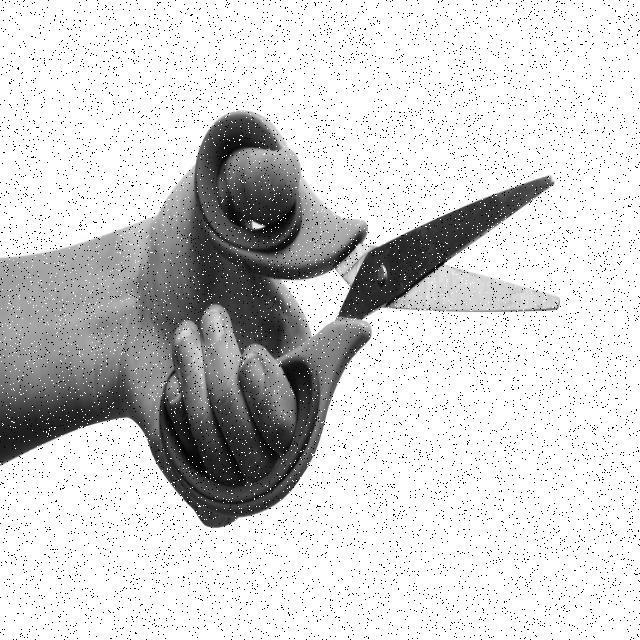scissors: (154, 100, 561, 518)
